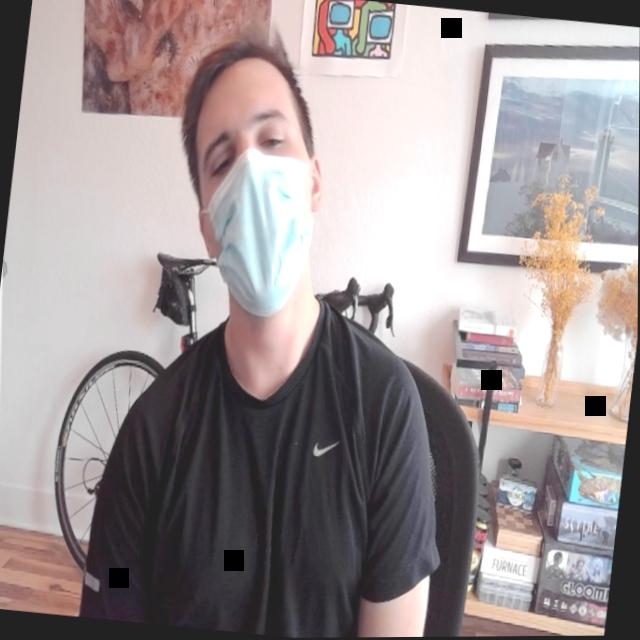Mask: (175, 51, 334, 328)
